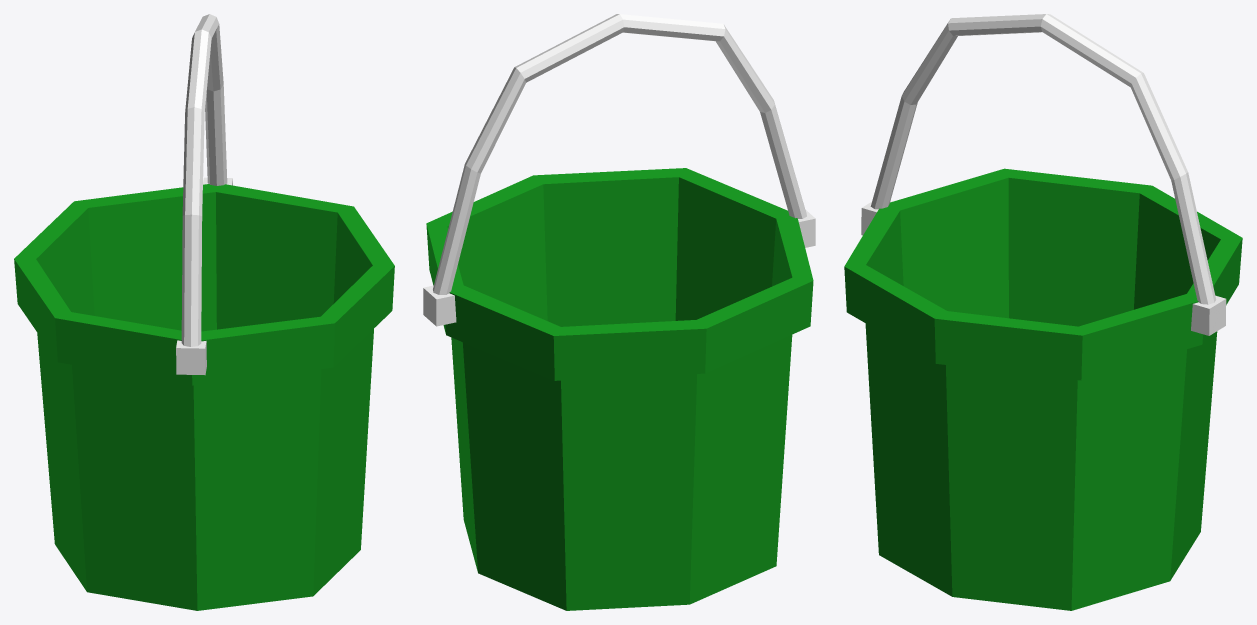
The model's file is Playground_bucket2.fbx.
3 renders of one model, left to right at view 1: azimuth 30°, elevation 25°; view 2: azimuth 150°, elevation 25°; view 3: azimuth 270°, elevation 25°, orthographic. The views are drawn at different scales.
Parts seen in each view (by area): view 1: Playground_bucket2; view 2: Playground_bucket2; view 3: Playground_bucket2.
Boxes of the visible parts, bbox=[...] form: Playground_bucket2: bbox=[14, 14, 394, 610]; Playground_bucket2: bbox=[423, 14, 815, 610]; Playground_bucket2: bbox=[844, 14, 1242, 610].
Bounding box in the file's own units: 25.76 × 25.76 × 37.8.
